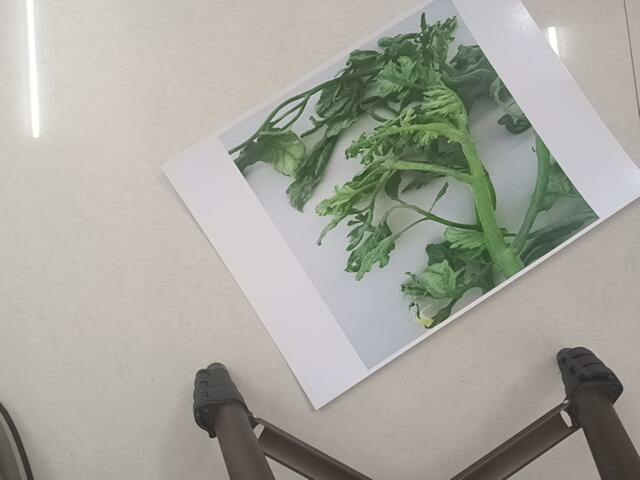Tomamto_Mosaic_virus: (283, 29, 554, 334)
